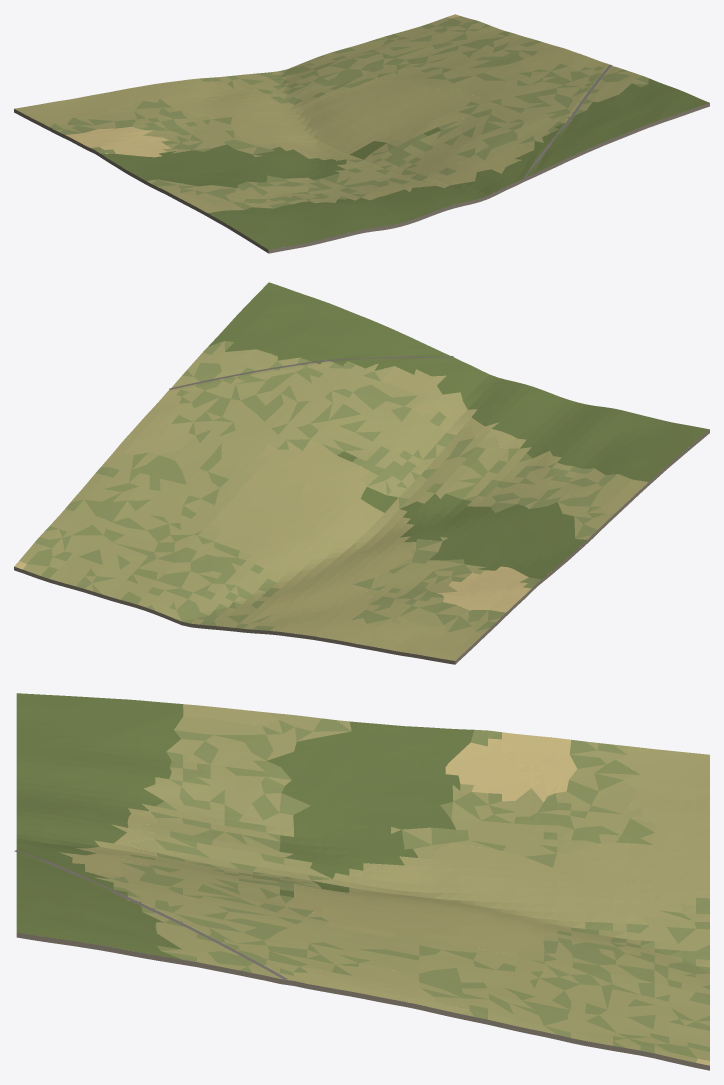
Rendered from parca_+5_+1-uzak.glb.
The picture shows the model from 3 angles, top to bottom: view 1: azimuth 30°, elevation 25°; view 2: azimuth 150°, elevation 25°; view 3: azimuth 270°, elevation 25°; orthographic projection. The views are drawn at different scales.
Visible parts, largest first — view 1: parca_+5_+1_arazi_uzak, parca_+5_+1_yollar_uzak; view 2: parca_+5_+1_arazi_uzak; view 3: parca_+5_+1_arazi_uzak, parca_+5_+1_yollar_uzak.
Part boxes in pixels (x1,y1,x2,y2): parca_+5_+1_arazi_uzak: (14,14,709,253); parca_+5_+1_yollar_uzak: (524,64,612,177); parca_+5_+1_arazi_uzak: (14,282,709,664); parca_+5_+1_arazi_uzak: (16,693,709,1070); parca_+5_+1_yollar_uzak: (14,850,287,980).
Size of the model in its own units: 1003 by 250 by 1004.
